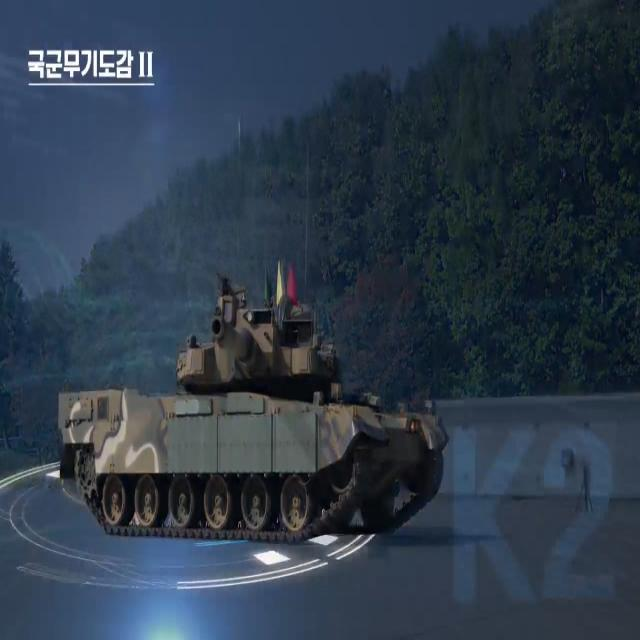korea tank: (57, 269, 451, 546)
